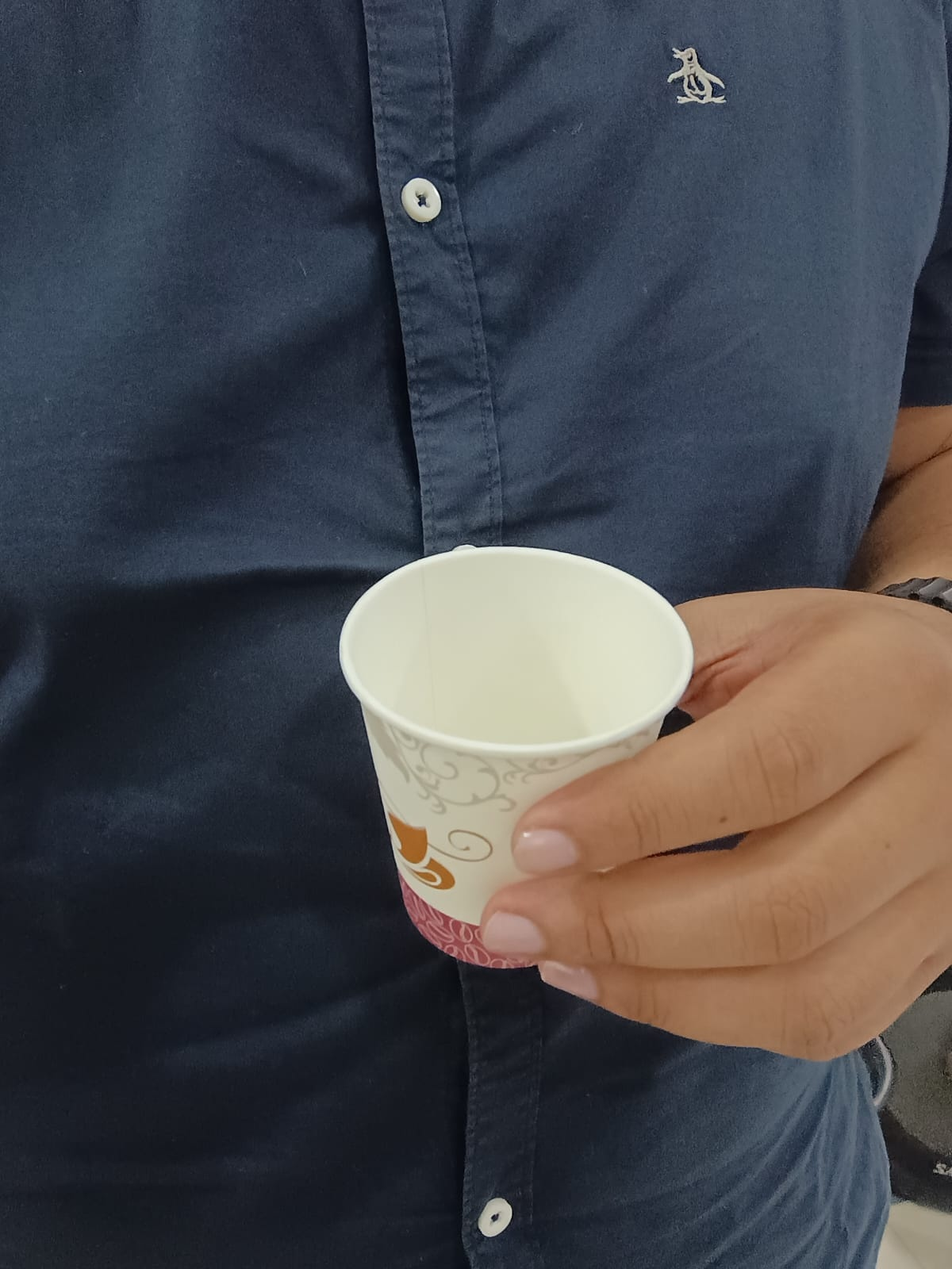Carton: (336, 545, 692, 972)
